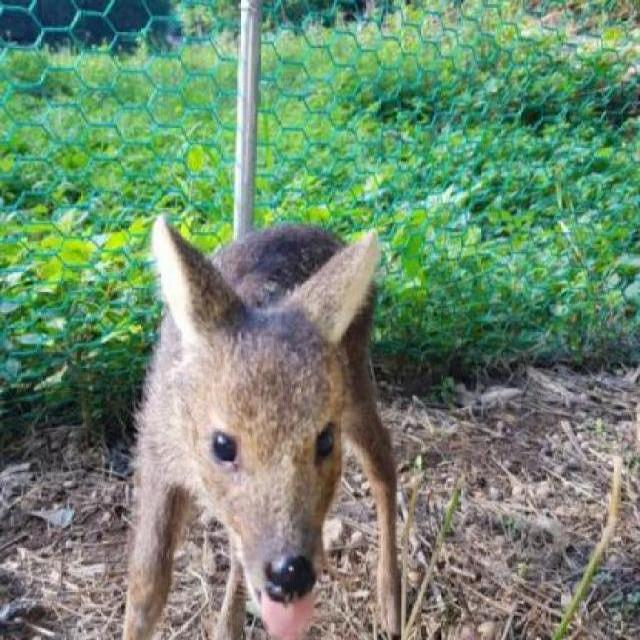deer: (94, 190, 410, 639)
